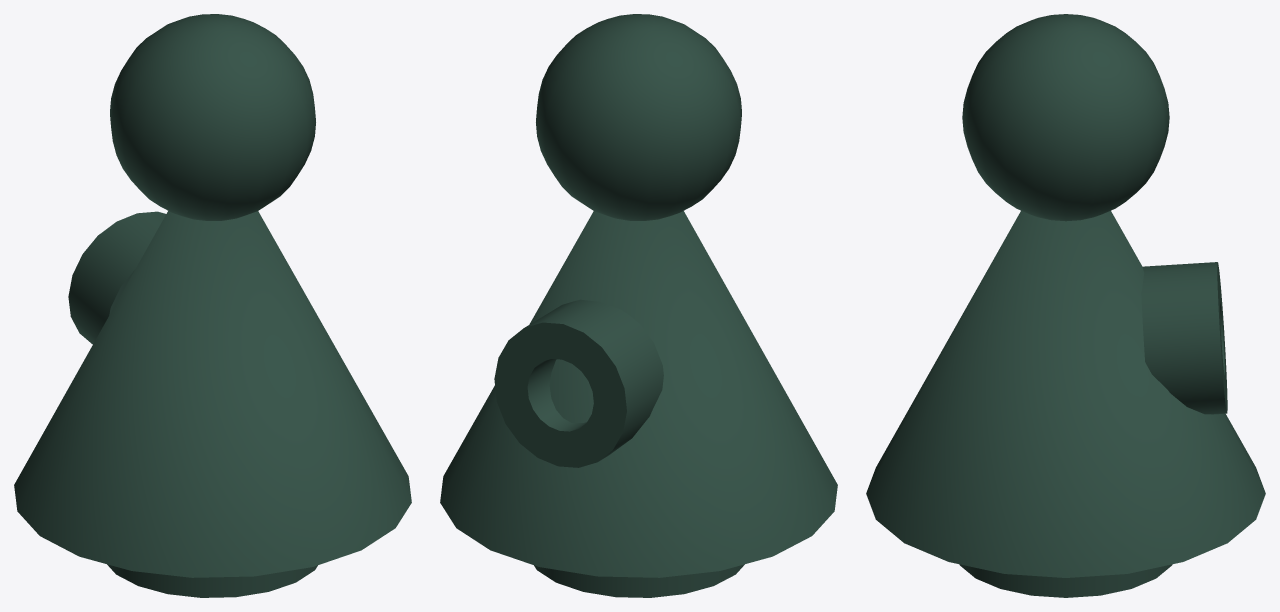
The model's file is Enemy.dae.
3 views of the same model, side by side, from view 1: azimuth 30°, elevation 25°; view 2: azimuth 150°, elevation 25°; view 3: azimuth 270°, elevation 25° (orthographic).
Parts seen in each view (by area): view 1: pCone1, pSphere1, pPipe2, pPipe1; view 2: pCone1, pSphere1, pPipe2, pPipe1; view 3: pCone1, pSphere1, pPipe2, pPipe1.
Part boxes in pixels (x1,y1,x2,y2): pCone1: (14,211,411,577); pSphere1: (110,14,315,220); pPipe2: (68,211,166,344); pPipe1: (107,564,317,597); pCone1: (440,211,837,577); pSphere1: (536,14,741,220); pPipe2: (494,299,663,467); pPipe1: (534,564,744,597); pCone1: (866,210,1265,577); pSphere1: (962,14,1169,221); pPipe2: (1141,262,1227,414); pPipe1: (959,564,1172,597).
Bounding box in the file's own units: 2 × 2.91 × 2.
